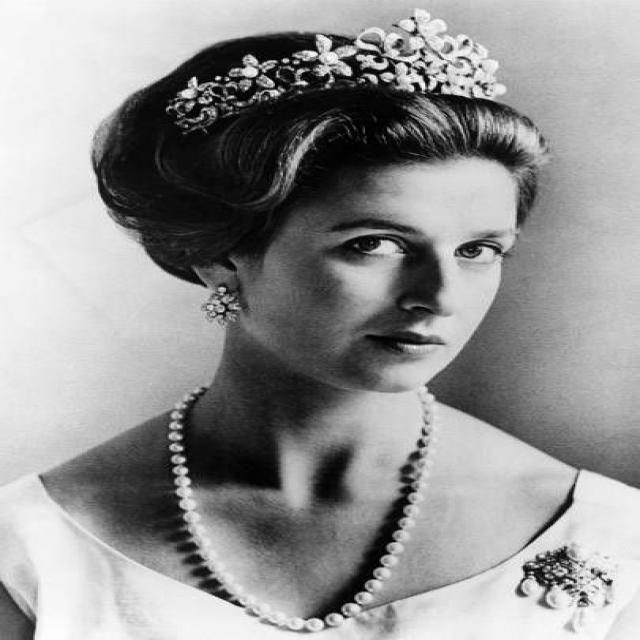Earring: (194, 279, 248, 342)
